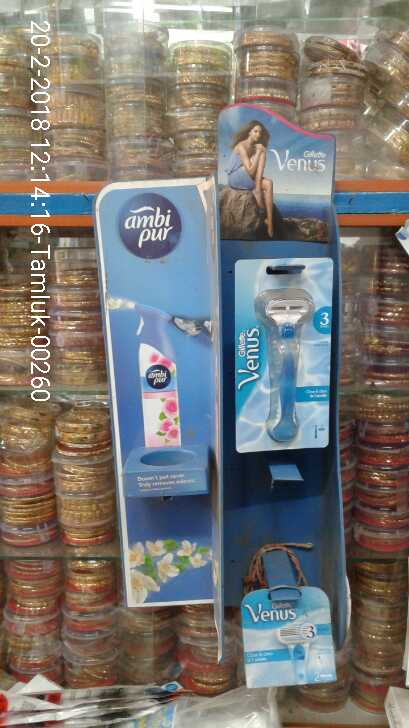venus: (236, 261, 333, 451), (229, 589, 343, 692)
